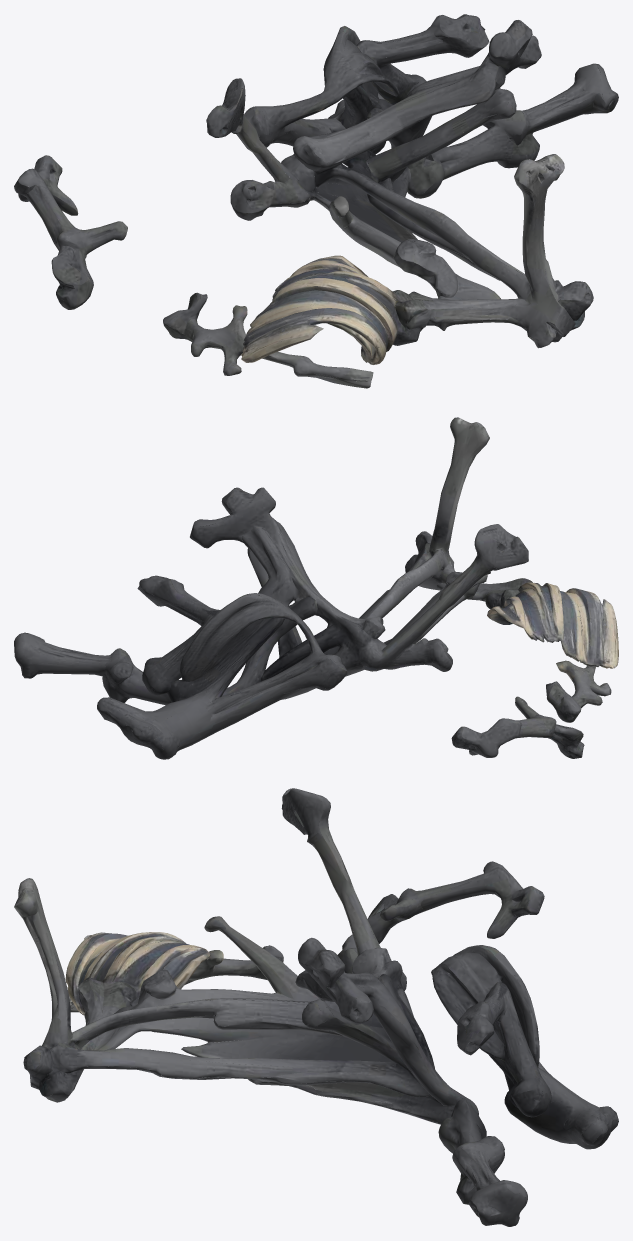
The model's file is corpse-bones.glb.
The picture shows the model from 3 angles, top to bottom: view 1: azimuth 30°, elevation 25°; view 2: azimuth 150°, elevation 25°; view 3: azimuth 270°, elevation 25°; orthographic projection. The views are drawn at different scales.
Visible parts, largest first — view 1: Mesh_0; view 2: Mesh_0; view 3: Mesh_0.
Part boxes in pixels (x1,y1,x2,y2): Mesh_0: [14, 14, 618, 388]; Mesh_0: [14, 417, 618, 759]; Mesh_0: [14, 788, 618, 1226].
Bounding box in the file's own units: 2.15 × 0.7798 × 1.81.
1 material, 1 textured.
